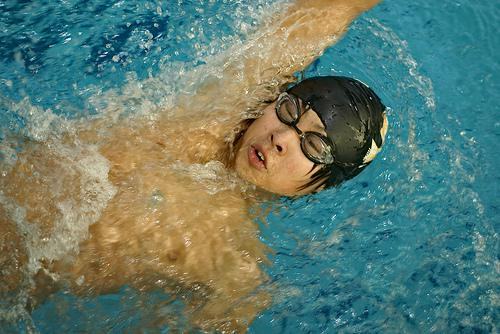swimmer: (1, 4, 392, 332)
